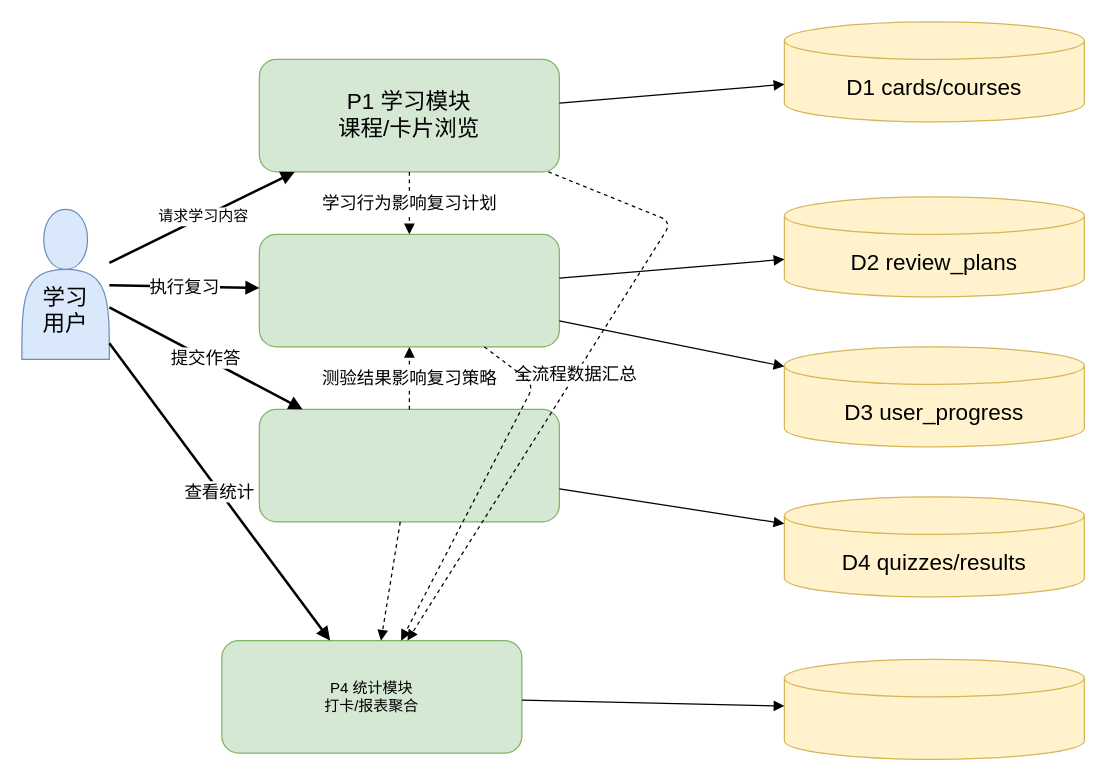
Image size: 1106x781. Some labels were removed from this diagram. Each missing label, with the centre of its shape:
"D5 checkin/report" goes at point (933, 708).
"P2 复习模块 今日计划与阶段推进" goes at point (408, 290).
"P3 测验模块 答题与判定反馈" goes at point (408, 465).
